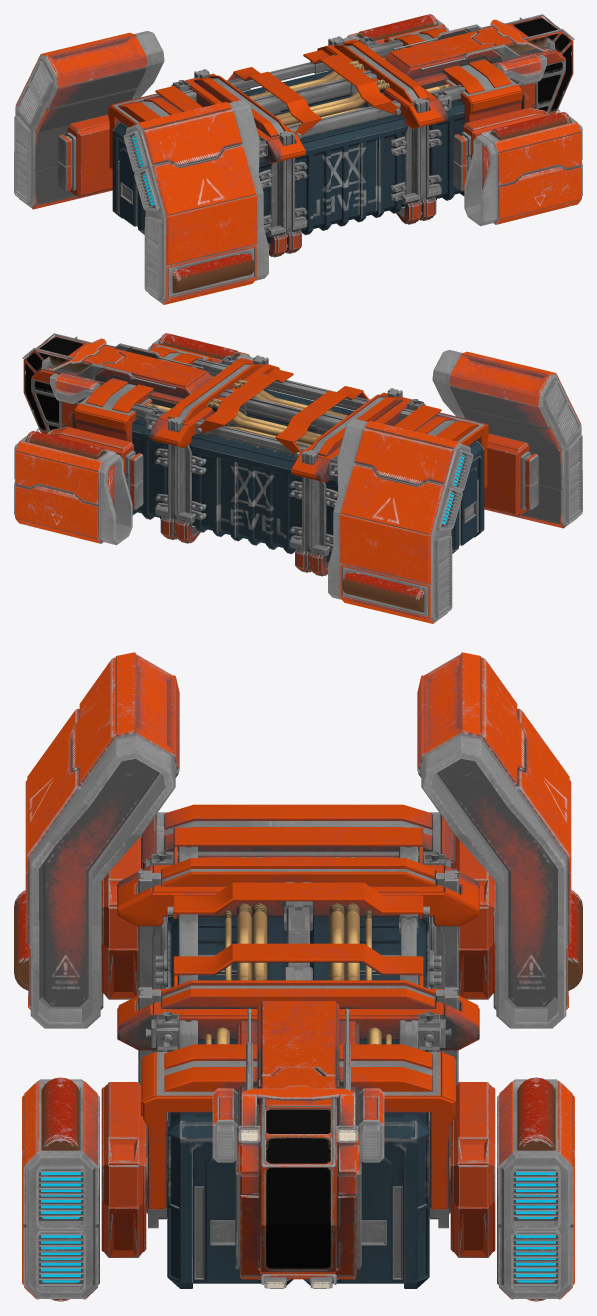
File: corinth-cargo-detail.glb
The picture shows the model from 3 angles, top to bottom: view 1: azimuth 30°, elevation 25°; view 2: azimuth 150°, elevation 25°; view 3: azimuth 270°, elevation 25°; orthographic projection. The views are drawn at different scales.
Parts seen in each view (by area): view 1: corinth-cargo; view 2: corinth-cargo; view 3: corinth-cargo.
Part boxes in pixels (x1=…): corinth-cargo: x1=14, y1=14, x2=582, y2=304; corinth-cargo: x1=14, y1=333, x2=582, y2=623; corinth-cargo: x1=14, y1=652, x2=582, y2=1301.
Bounding box in the file's own units: 82 × 28.29 × 47.37.
Materials: 12 (11 with a texture image).
